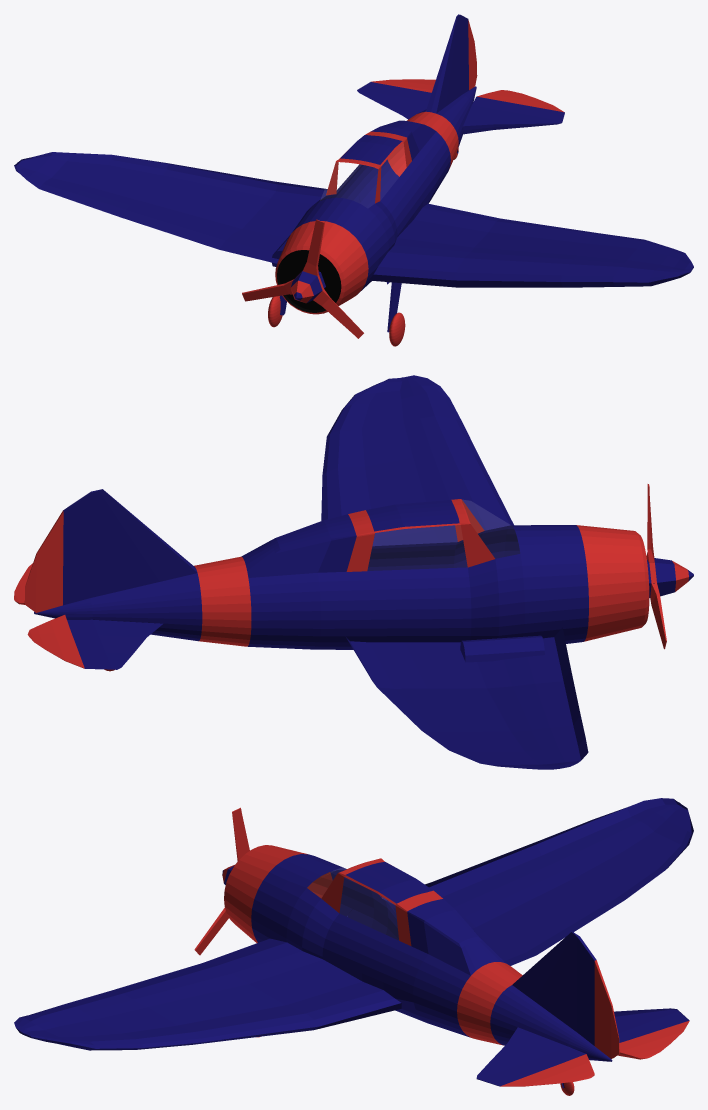
3 renders of one model, top to bottom at view 1: azimuth 30°, elevation 25°; view 2: azimuth 150°, elevation 25°; view 3: azimuth 270°, elevation 25°, orthographic. The views are drawn at different scales.
Visible parts, largest first — view 1: Plane; view 2: Plane; view 3: Plane.
Part boxes in pixels (<box>): Plane: <box>14,14,693,346</box>; Plane: <box>14,375,693,769</box>; Plane: <box>14,798,693,1095</box>.
Bounding box in the file's own units: 1.38 × 0.5018 × 1.43.
